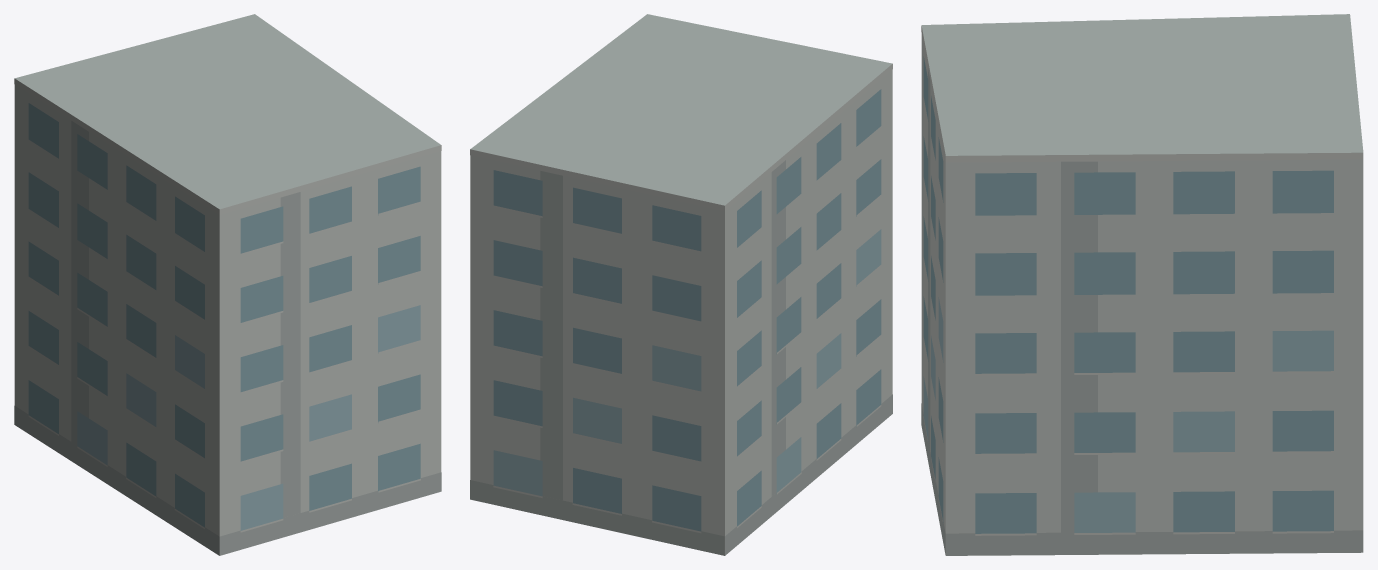
File: survey-upis-32883301.glb
3 views of the same model, side by side, from view 1: azimuth 30°, elevation 25°; view 2: azimuth 150°, elevation 25°; view 3: azimuth 270°, elevation 25° (orthographic). The views are drawn at different scales.
Visible parts, largest first — view 1: survey-upis-32883301.tmp; view 2: survey-upis-32883301.tmp; view 3: survey-upis-32883301.tmp.
Boxes of the visible parts, box(x1,y1,x2,y2) form: survey-upis-32883301.tmp: box(14, 14, 441, 555); survey-upis-32883301.tmp: box(470, 14, 892, 555); survey-upis-32883301.tmp: box(921, 14, 1363, 555).
Size of the model in its own units: 10.96 by 14.4 by 14.43.
